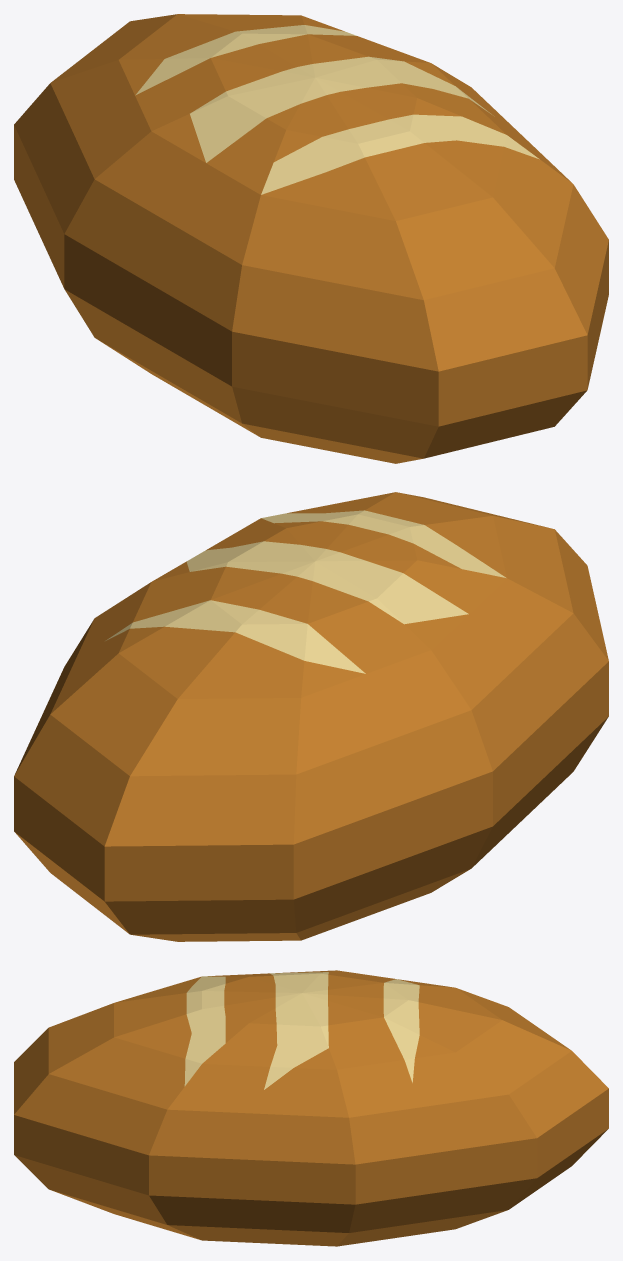
Rendered from Loaf.fbx.
3 renders of one model, top to bottom at view 1: azimuth 30°, elevation 25°; view 2: azimuth 150°, elevation 25°; view 3: azimuth 270°, elevation 25°, orthographic. The views are drawn at different scales.
Parts seen in each view (by area): view 1: Bread Loaf; view 2: Bread Loaf; view 3: Bread Loaf.
Boxes of the visible parts, x1,y1,x2,y2 form: Bread Loaf: (14, 14, 608, 463); Bread Loaf: (14, 492, 608, 941); Bread Loaf: (14, 970, 608, 1246).
Size of the model in its own units: 8.93 by 5.57 by 14.74.
